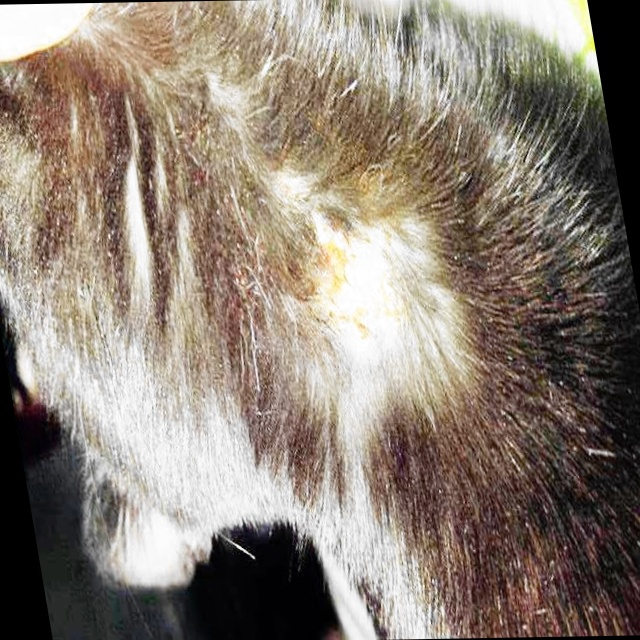ringworm: (291, 233, 406, 351)
